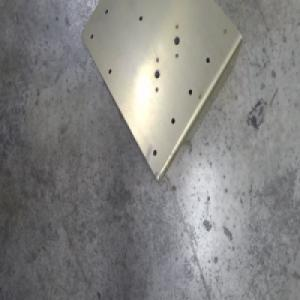MetalSheet: (79, 0, 242, 186)
